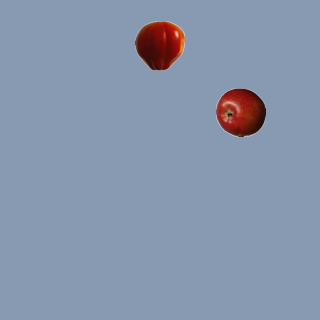Apple Braeburn: (215, 87, 265, 137)
Tomato 1: (134, 20, 184, 70)
